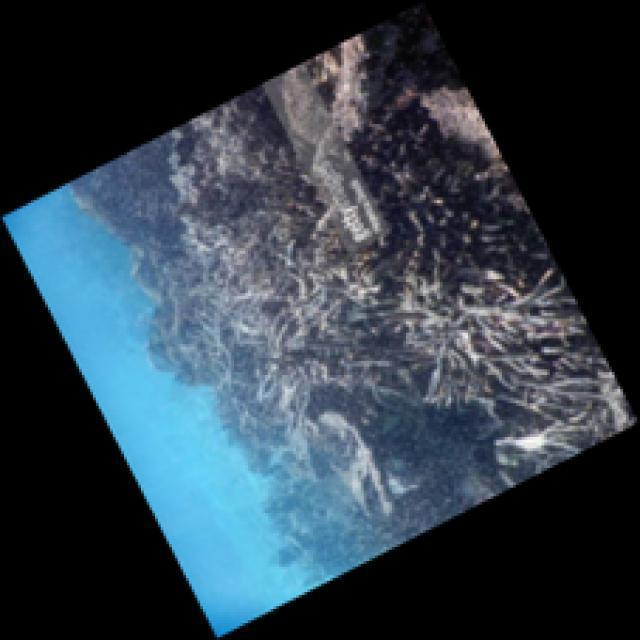Dead Coral: (379, 76, 527, 291), (407, 268, 574, 448), (215, 267, 361, 437)
